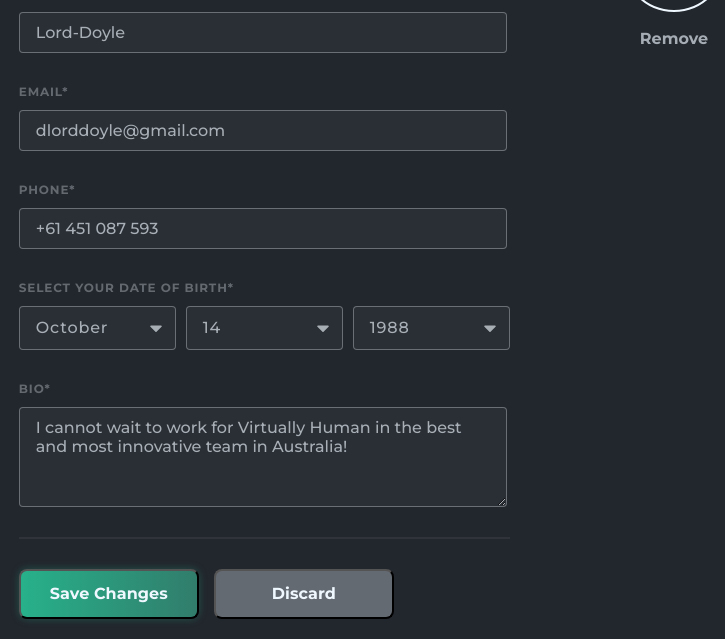
Test: The bio field input text area › will discard all of a users changes if the user presses the discard button
(page scrolled)
Replace the text in the text box named "bioinput" with "I am the newest description" at (263, 456), box [19,406,507,506]
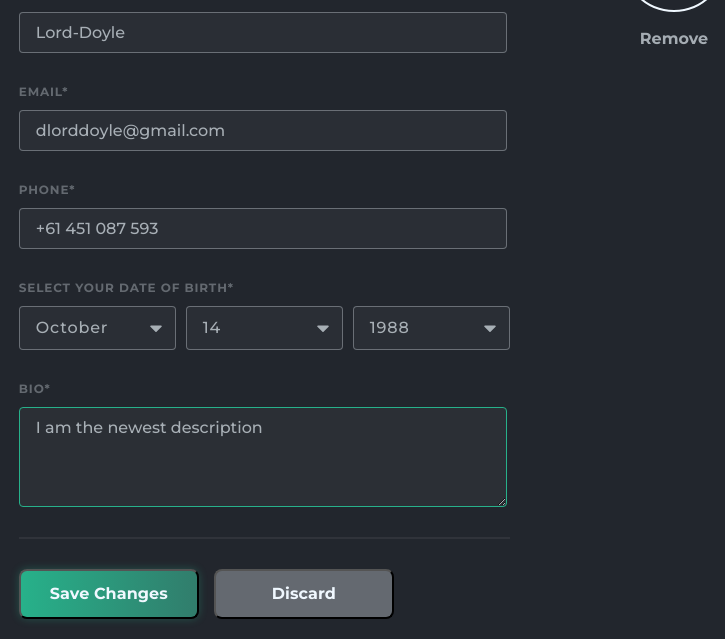
Click the button "Discard" at (304, 594), box [214,568,394,618]
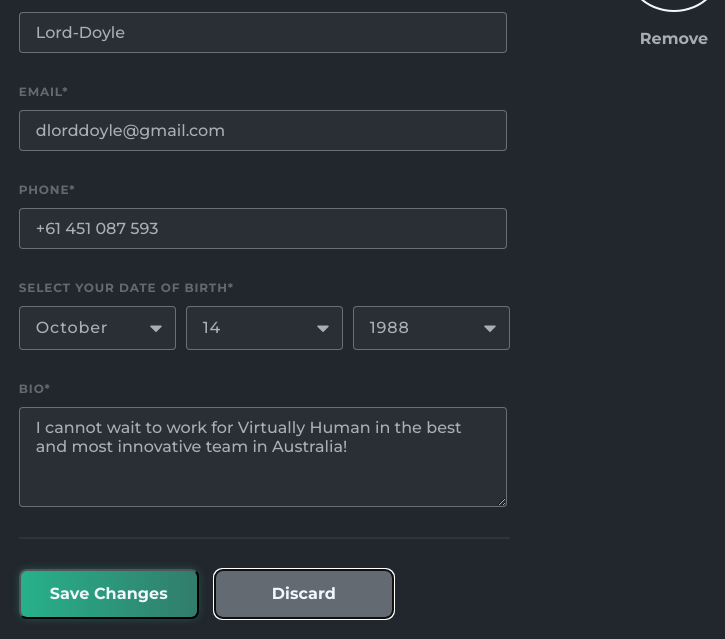
Check: the text box named "bioinput" holds "I cannot wait to work for Virtually Human in the best and most innovative team in Australia!", box [19,406,507,506]
